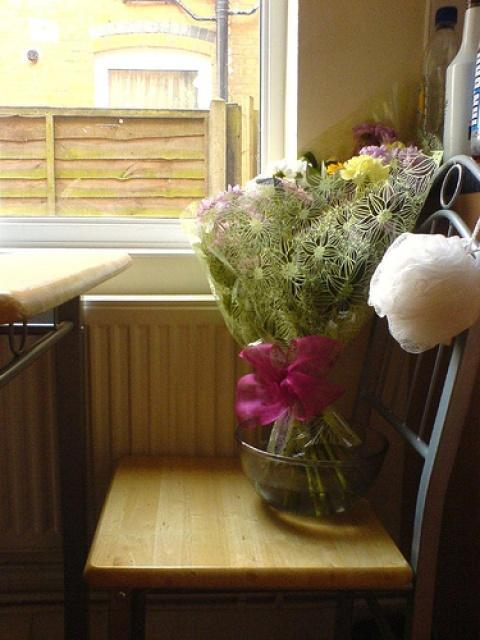Kursi: (79, 152, 479, 637)
